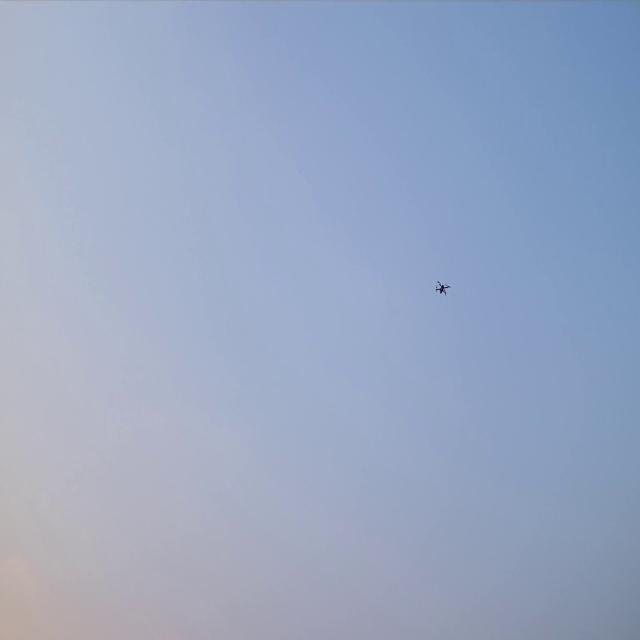UAV: (436, 282, 449, 293)
